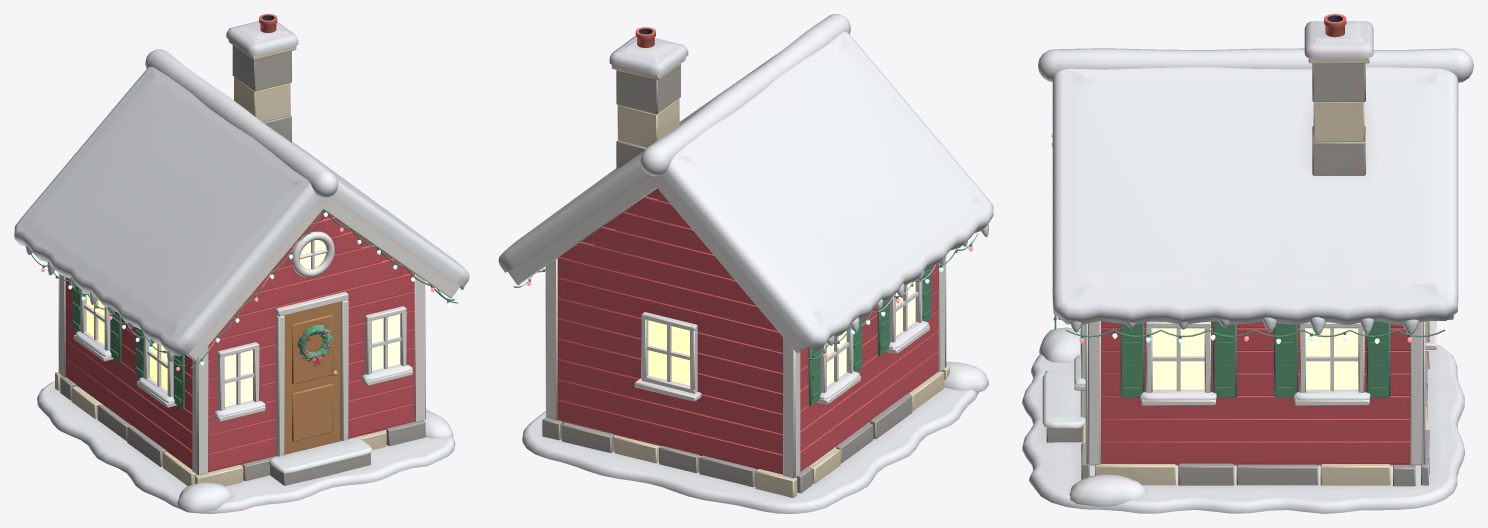
Rendered from snowy-cabin.glb.
The picture shows the model from 3 angles, left to right: view 1: azimuth 30°, elevation 25°; view 2: azimuth 150°, elevation 25°; view 3: azimuth 270°, elevation 25°; orthographic projection. The views are drawn at different scales.
Parts seen in each view (by area): view 1: snowy-cabin_body, snowy-cabin_window_glow; view 2: snowy-cabin_body, snowy-cabin_window_glow; view 3: snowy-cabin_body, snowy-cabin_window_glow.
Part boxes in pixels (x1,y1,x2,y2): snowy-cabin_body: (14, 14, 469, 513); snowy-cabin_window_glow: (86, 240, 400, 406); snowy-cabin_body: (498, 14, 993, 513); snowy-cabin_window_glow: (648, 281, 915, 386); snowy-cabin_body: (1022, 14, 1473, 513); snowy-cabin_window_glow: (1152, 328, 1358, 389).
Size of the model in its own units: 4.3 by 4.96 by 4.59.
7 materials, 1 textured.
